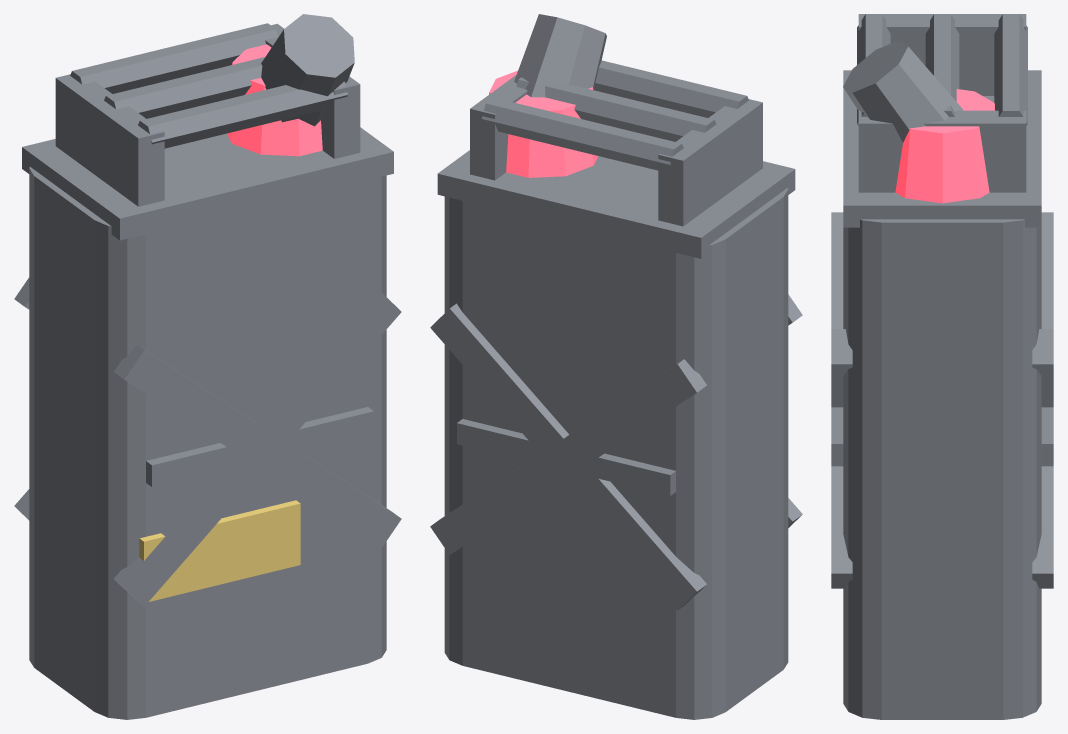
The model's file is pickups-and-collectibles-fuel-canister-4804e8e7__19911.glb.
3 views of the same model, side by side, from view 1: azimuth 30°, elevation 25°; view 2: azimuth 150°, elevation 25°; view 3: azimuth 270°, elevation 25° (orthographic). The views are drawn at different scales.
Visible parts, largest first — view 1: body/iron, body/gold, body/ruby; view 2: body/iron, body/ruby; view 3: body/iron, body/ruby.
Boxes of the visible parts, x1=… form: body/iron: x1=14, y1=14, x2=401, y2=719; body/gold: x1=139, y1=500, x2=300, y2=601; body/ruby: x1=227, y1=44, x2=322, y2=156; body/iron: x1=430, y1=14, x2=802, y2=719; body/ruby: x1=489, y1=70, x2=598, y2=177; body/iron: x1=831, y1=14, x2=1053, y2=719; body/ruby: x1=895, y1=89, x2=994, y2=203.
Bounding box in the file's own units: 0.22 × 0.4642 × 0.146.
